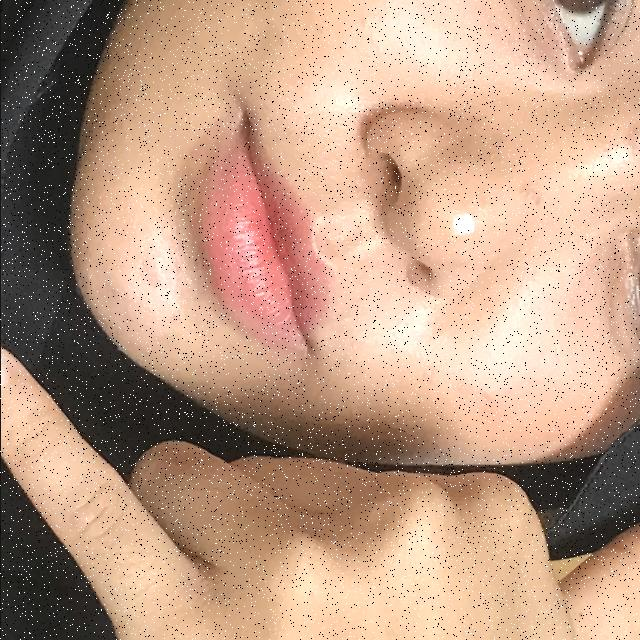telpon: (0, 270, 640, 640)
